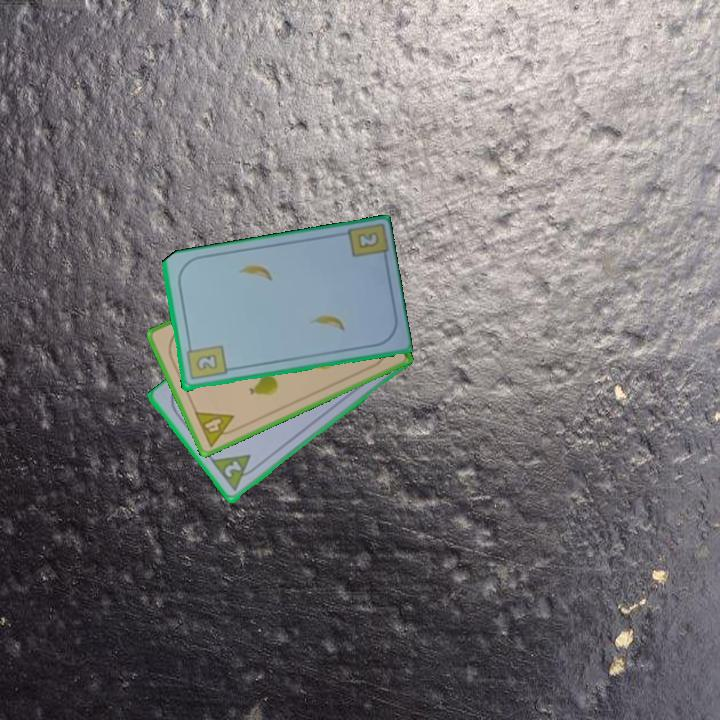2b: (183, 341, 229, 383), (354, 228, 382, 252)
2p: (208, 451, 262, 495)
4p: (191, 408, 242, 450)
